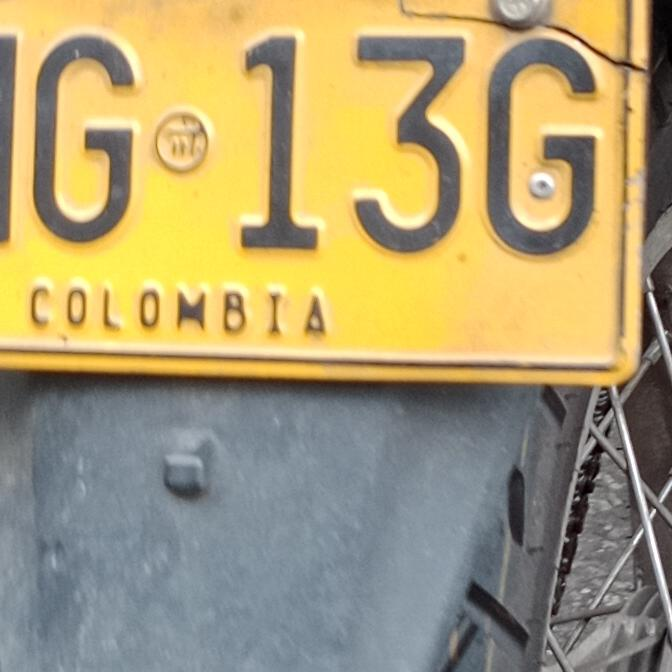plates: (0, 0, 658, 397)
